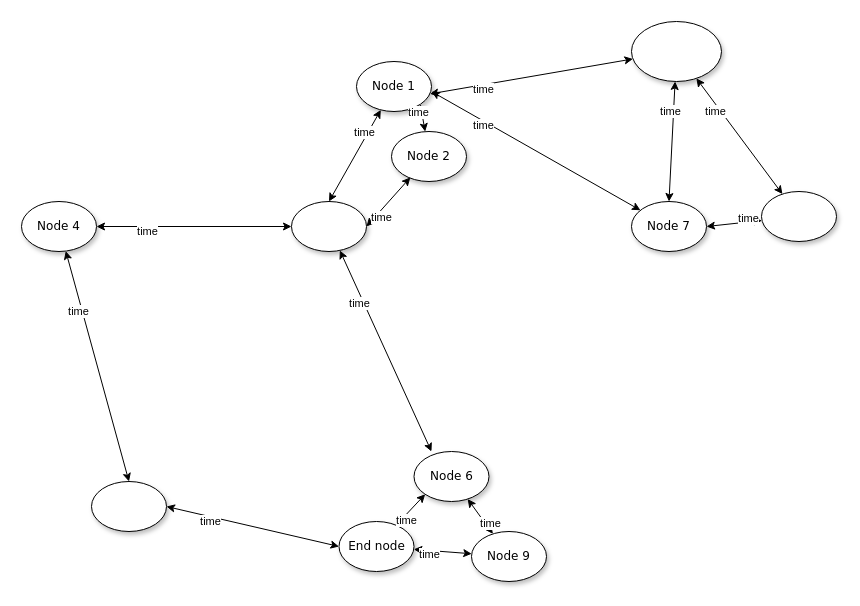
Some shapes in this 860 by 606 pixel diagram are drawn without their labels. The centre of each missing label's shape, as x and y in pixels:
"entrance" belongs at (x=677, y=52).
"Node 3" belongs at (x=799, y=217).
"Node 5" belongs at (x=329, y=227).
"Node 8" belongs at (x=129, y=507).
